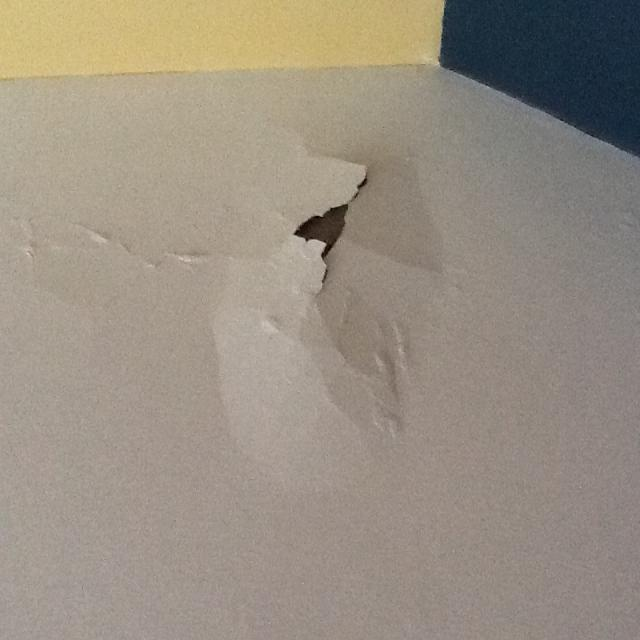Crack: (200, 106, 458, 489), (11, 204, 198, 272)
